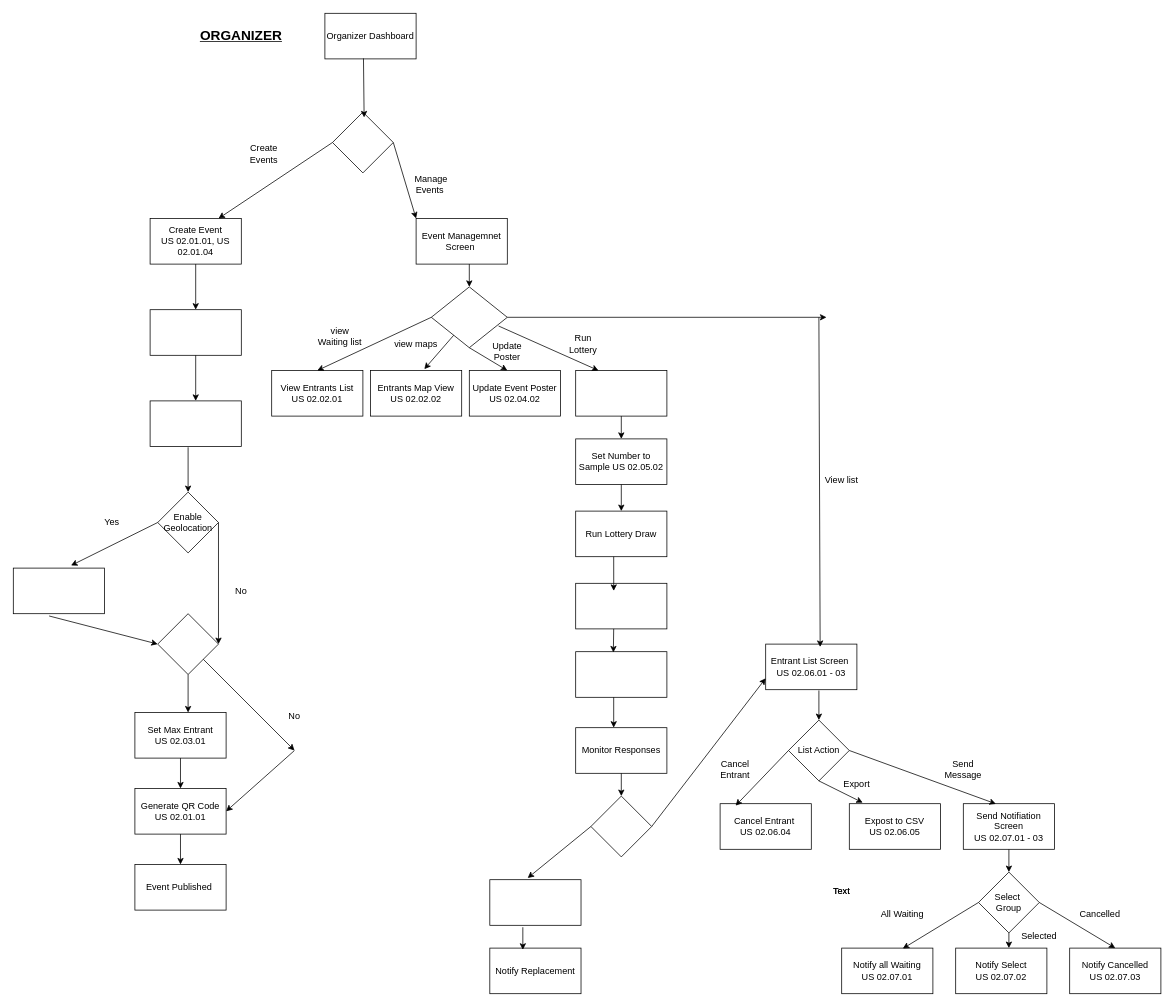
Some shapes in this 1174 by 1007 pixel diagram are drawn without their labels. Each missing label, with the centre of its shape:
"Action" belongs at point 362,142.
"Draw Replacement US 02.05.03" belongs at point 535,902.
"Enable Geolocation US 02.02.03" belongs at point 58,590.
"Limit Waiting List" belongs at point 187,643.
"Lottery Draw Screen US 02.05.02" belongs at point 621,393.
"Management Action" belongs at point 469,317.
"Send Lost Notification US 01.04.02" belongs at point 621,674.
"Send Win Notification US 01.04.01" belongs at point 621,606.
"Set Registration Perios US 02.01.04" belongs at point 195,423.
"Some Declined" belongs at point 621,826.
"Upload Event Poster US 02.04.01" belongs at point 195,332.
